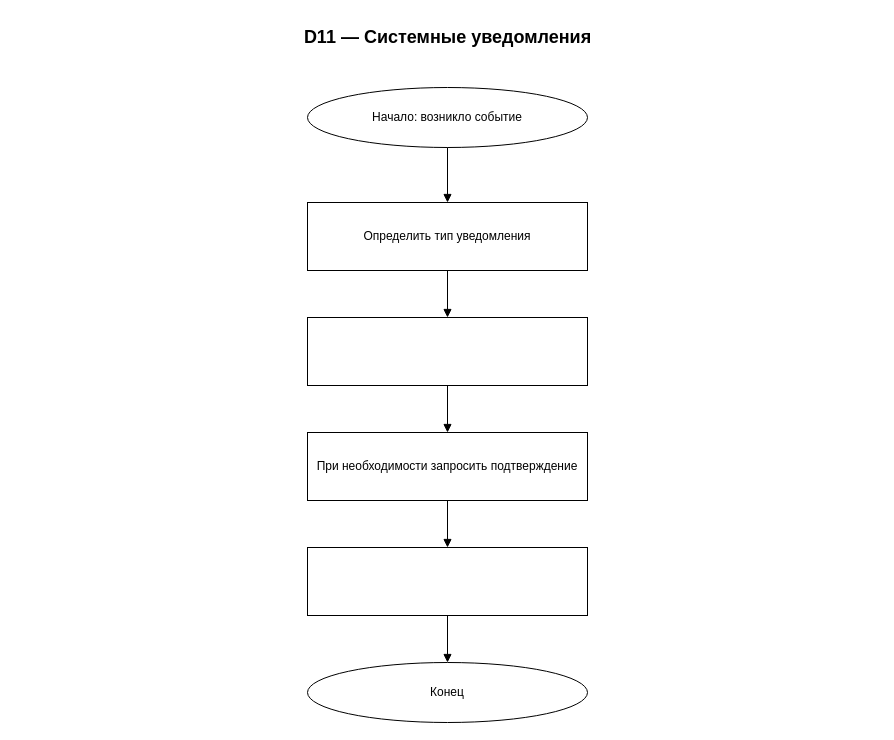
Some shapes in this 894 by 740 pixel diagram are drawn without their labels. Here are the shapes that lost their labels. From the top down, the centre of each, then its label:
the point at 447,351: Показать причину ошибки или предупреждение
the point at 447,581: Вернуться к форме или расписанию
